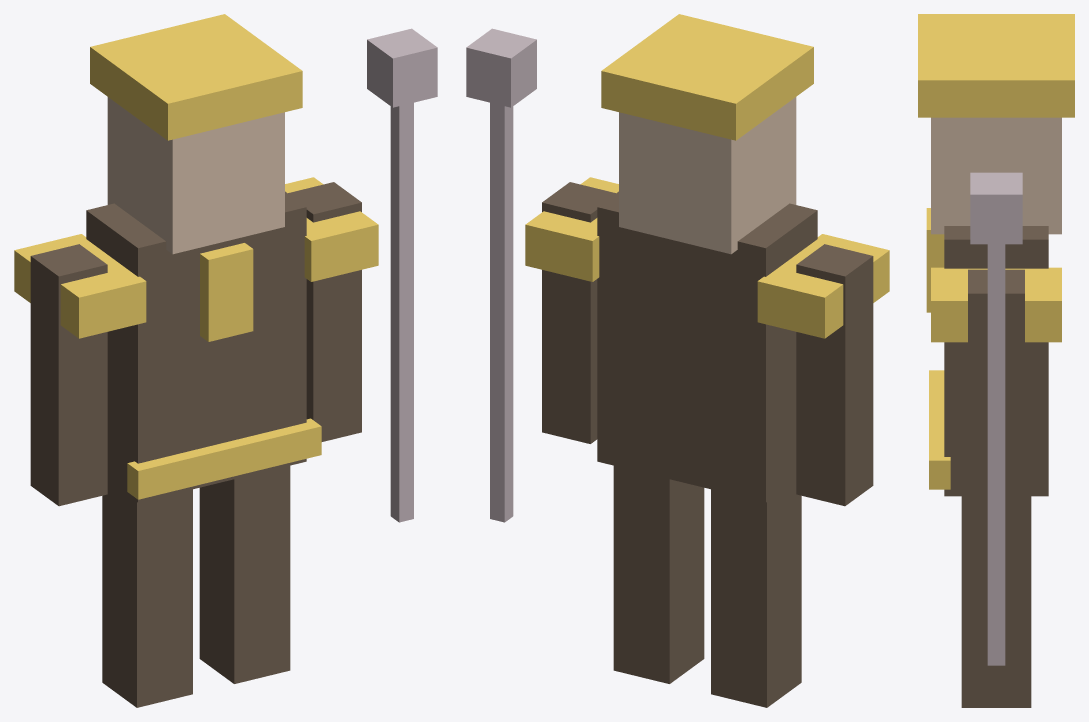
Rendered from 16_lio_voxmere_tamer_of_rooftop.glb.
3 views of the same model, side by side, from view 1: azimuth 30°, elevation 25°; view 2: azimuth 150°, elevation 25°; view 3: azimuth 270°, elevation 25° (orthographic).
Visible parts, largest first — view 1: Lio Voxmere, Tamer of Rooftop; view 2: Lio Voxmere, Tamer of Rooftop; view 3: Lio Voxmere, Tamer of Rooftop.
Boxes of the visible parts, x1,y1,x2,y2 form: Lio Voxmere, Tamer of Rooftop: (14, 14, 437, 707); Lio Voxmere, Tamer of Rooftop: (466, 14, 889, 707); Lio Voxmere, Tamer of Rooftop: (918, 14, 1074, 707).
Size of the model in its own units: 1.08 by 1.67 by 0.3815.
